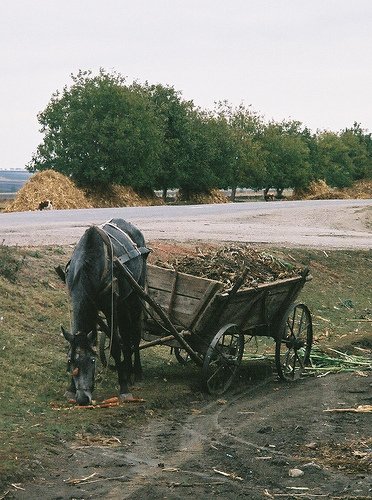horse: (56, 216, 153, 412)
